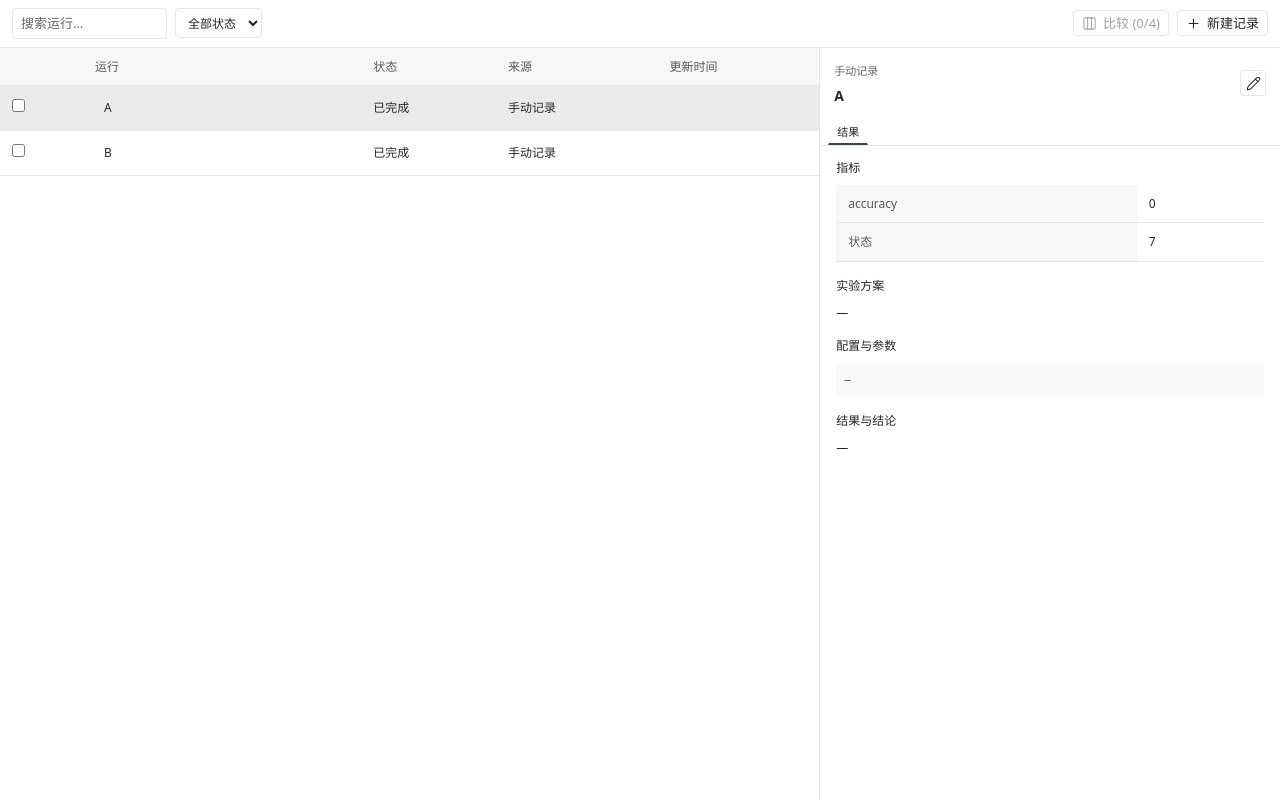
Scenario: compares manual records and keeps missing metric values explicitly empty
This screenshot has width=1280, height=800.
Click the checkbox named "比较 A": (18, 106) left=12, top=99, right=25, bottom=112
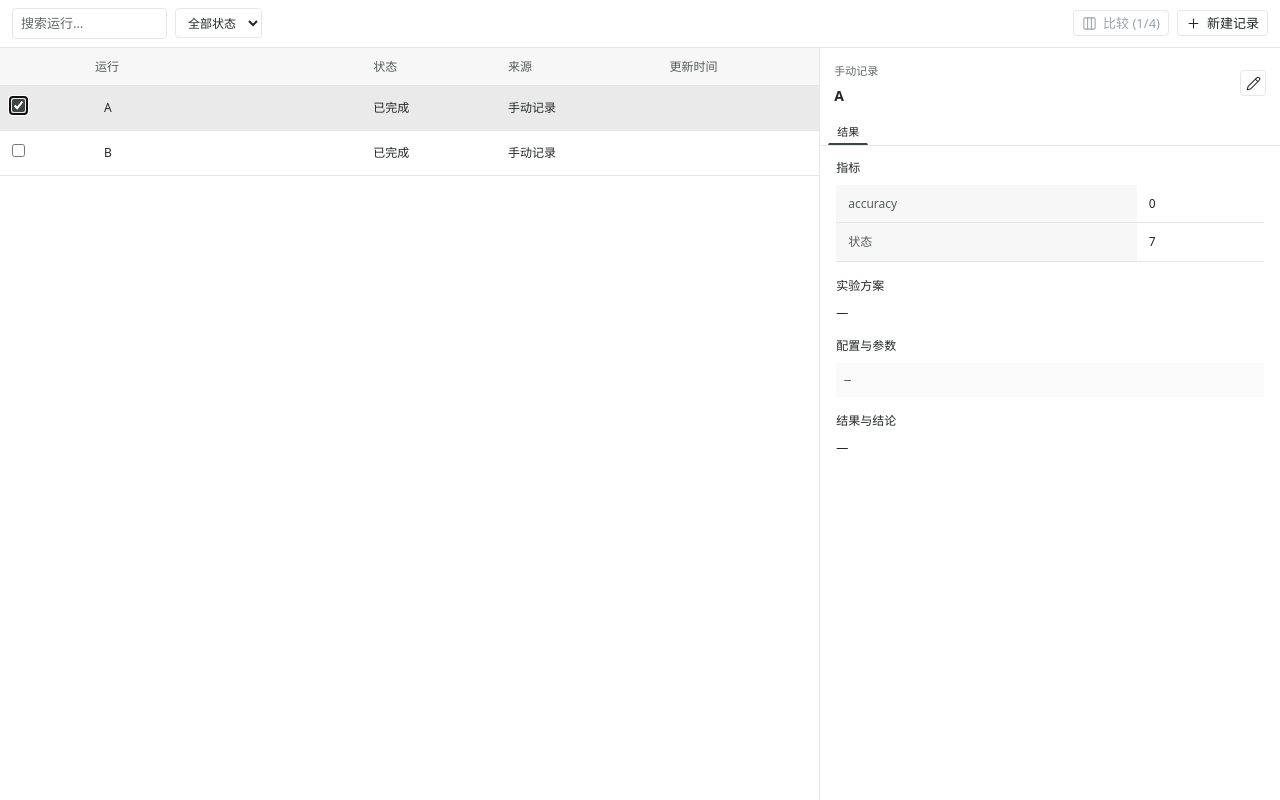
Click the checkbox named "比较 B": (18, 151) left=12, top=144, right=25, bottom=157
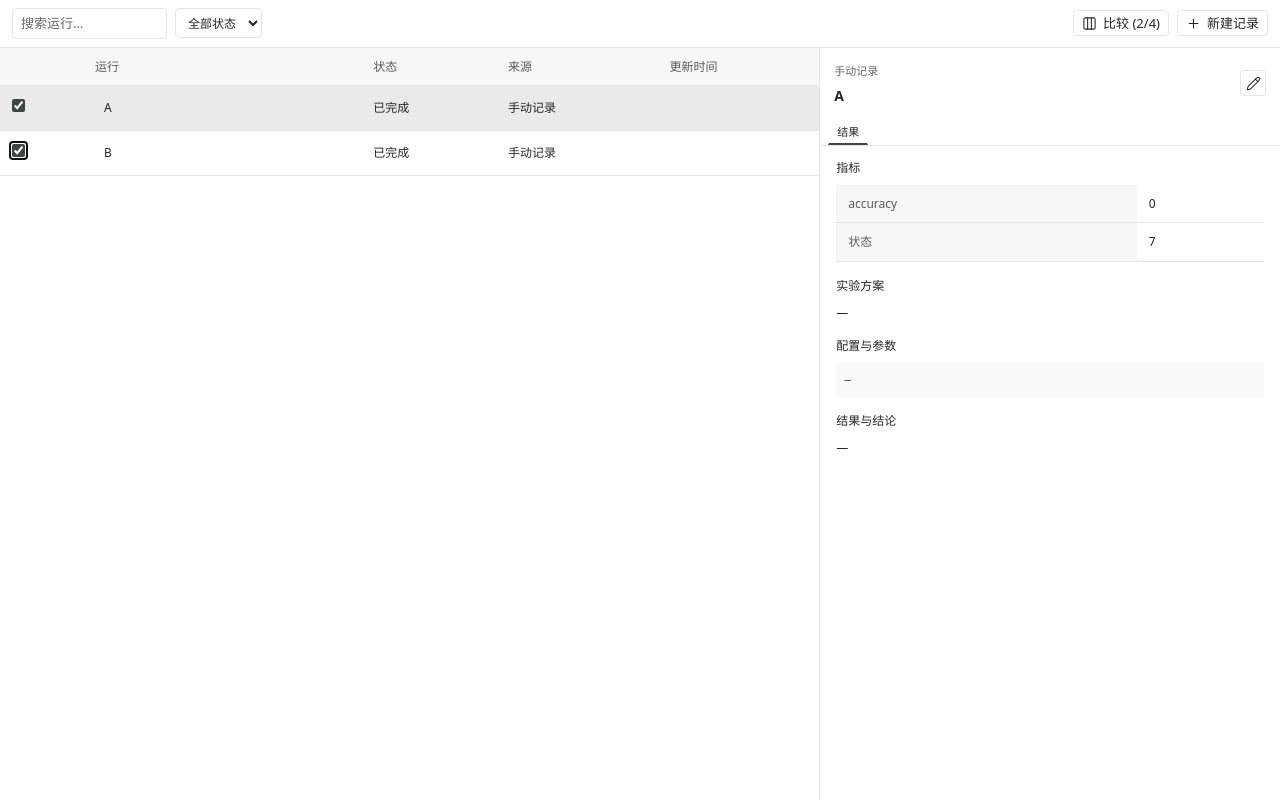
Click the button "比较 (2/4)": (1121, 23) left=1073, top=10, right=1169, bottom=36
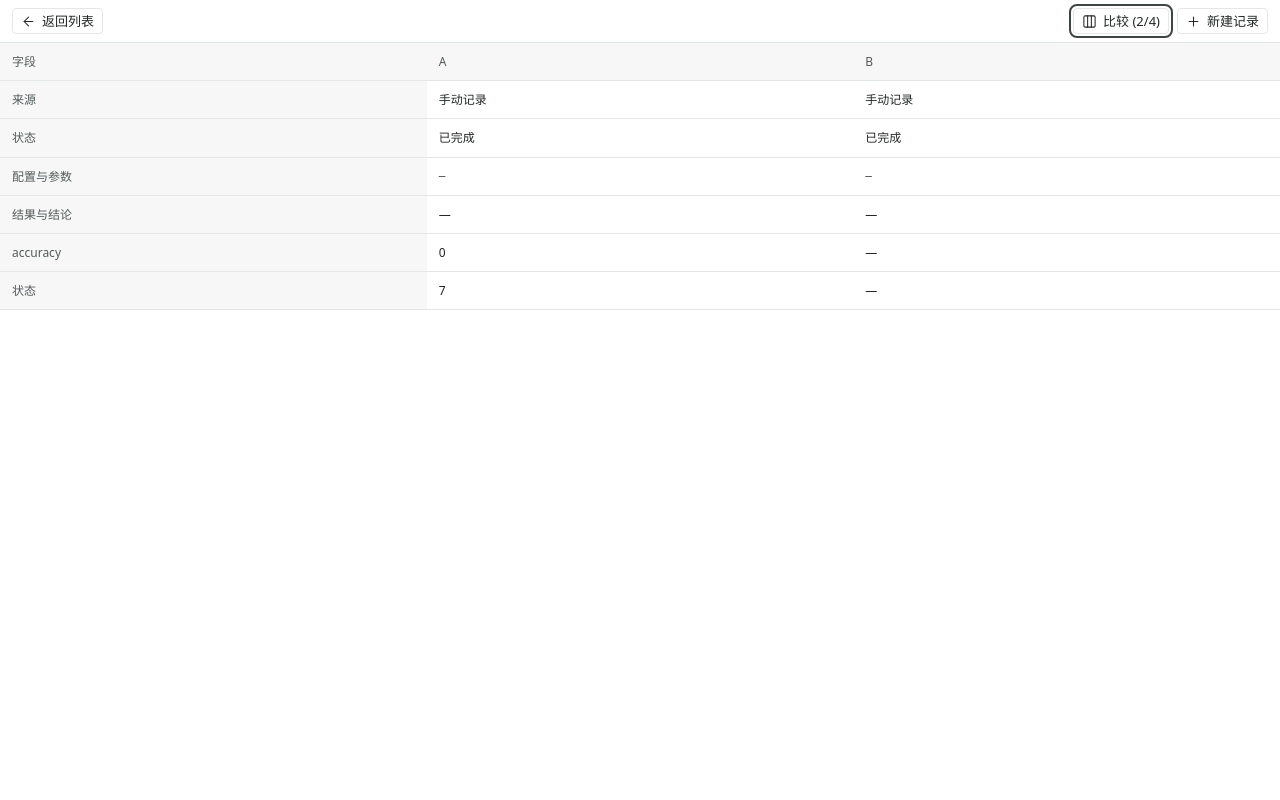
Now the table named "运行比较" shows "手动记录", box left=439, top=91, right=487, bottom=108
